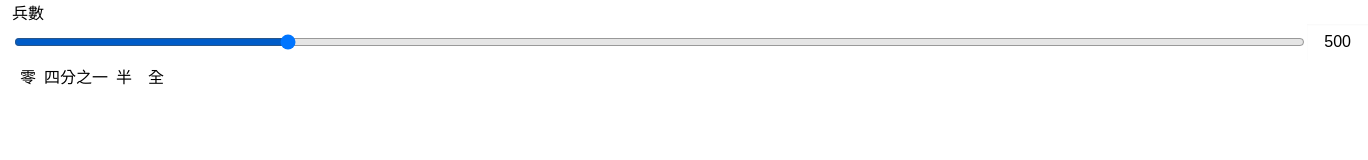
Test: NumberSlider exact bound controls › None/All and range endpoints reach exact bounds while interior values still snap
Click the button "全" at (156, 76), box [140,60,172,92]
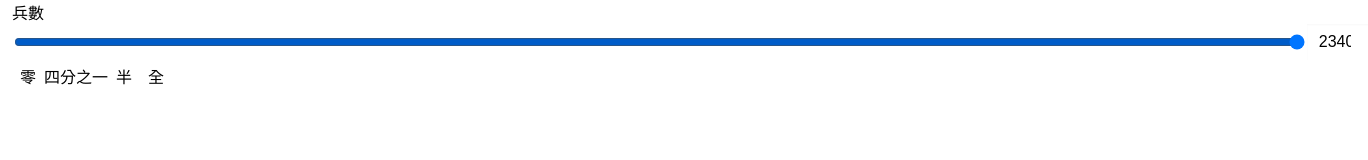
Result: the slider holds "2340" at [14,26,1305,58]
Click the button "零" at (28, 76), box [12,60,44,92]
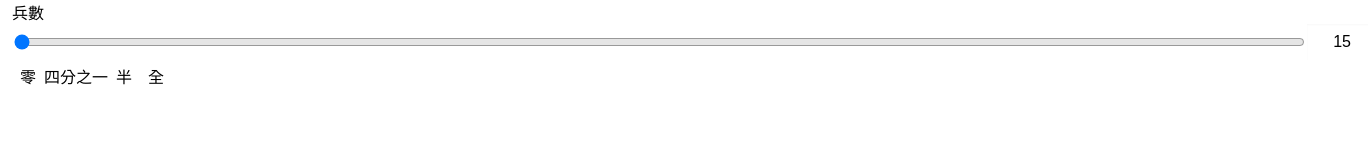
Result: the slider holds "15"
Set the slider to "2340" at (1297, 42), box [14,26,1305,58]
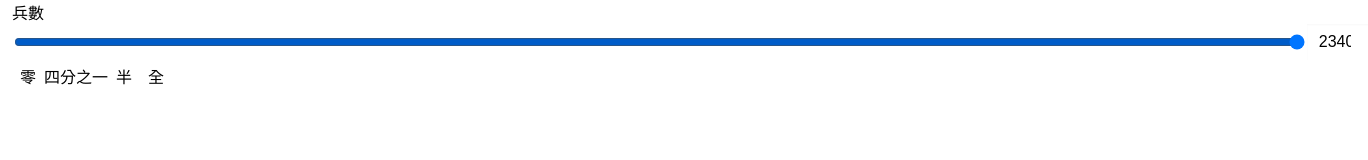
Set the slider to "955" at (537, 42), box [14,26,1305,58]
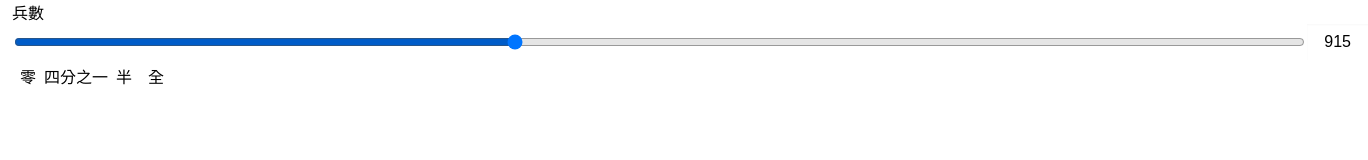
Result: the slider holds "915"
Press Home in the slider, box [14,26,1305,58]
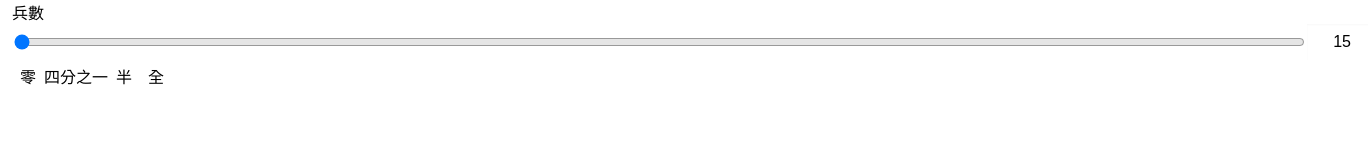
Result: the slider holds "15" at [14,26,1305,58]
